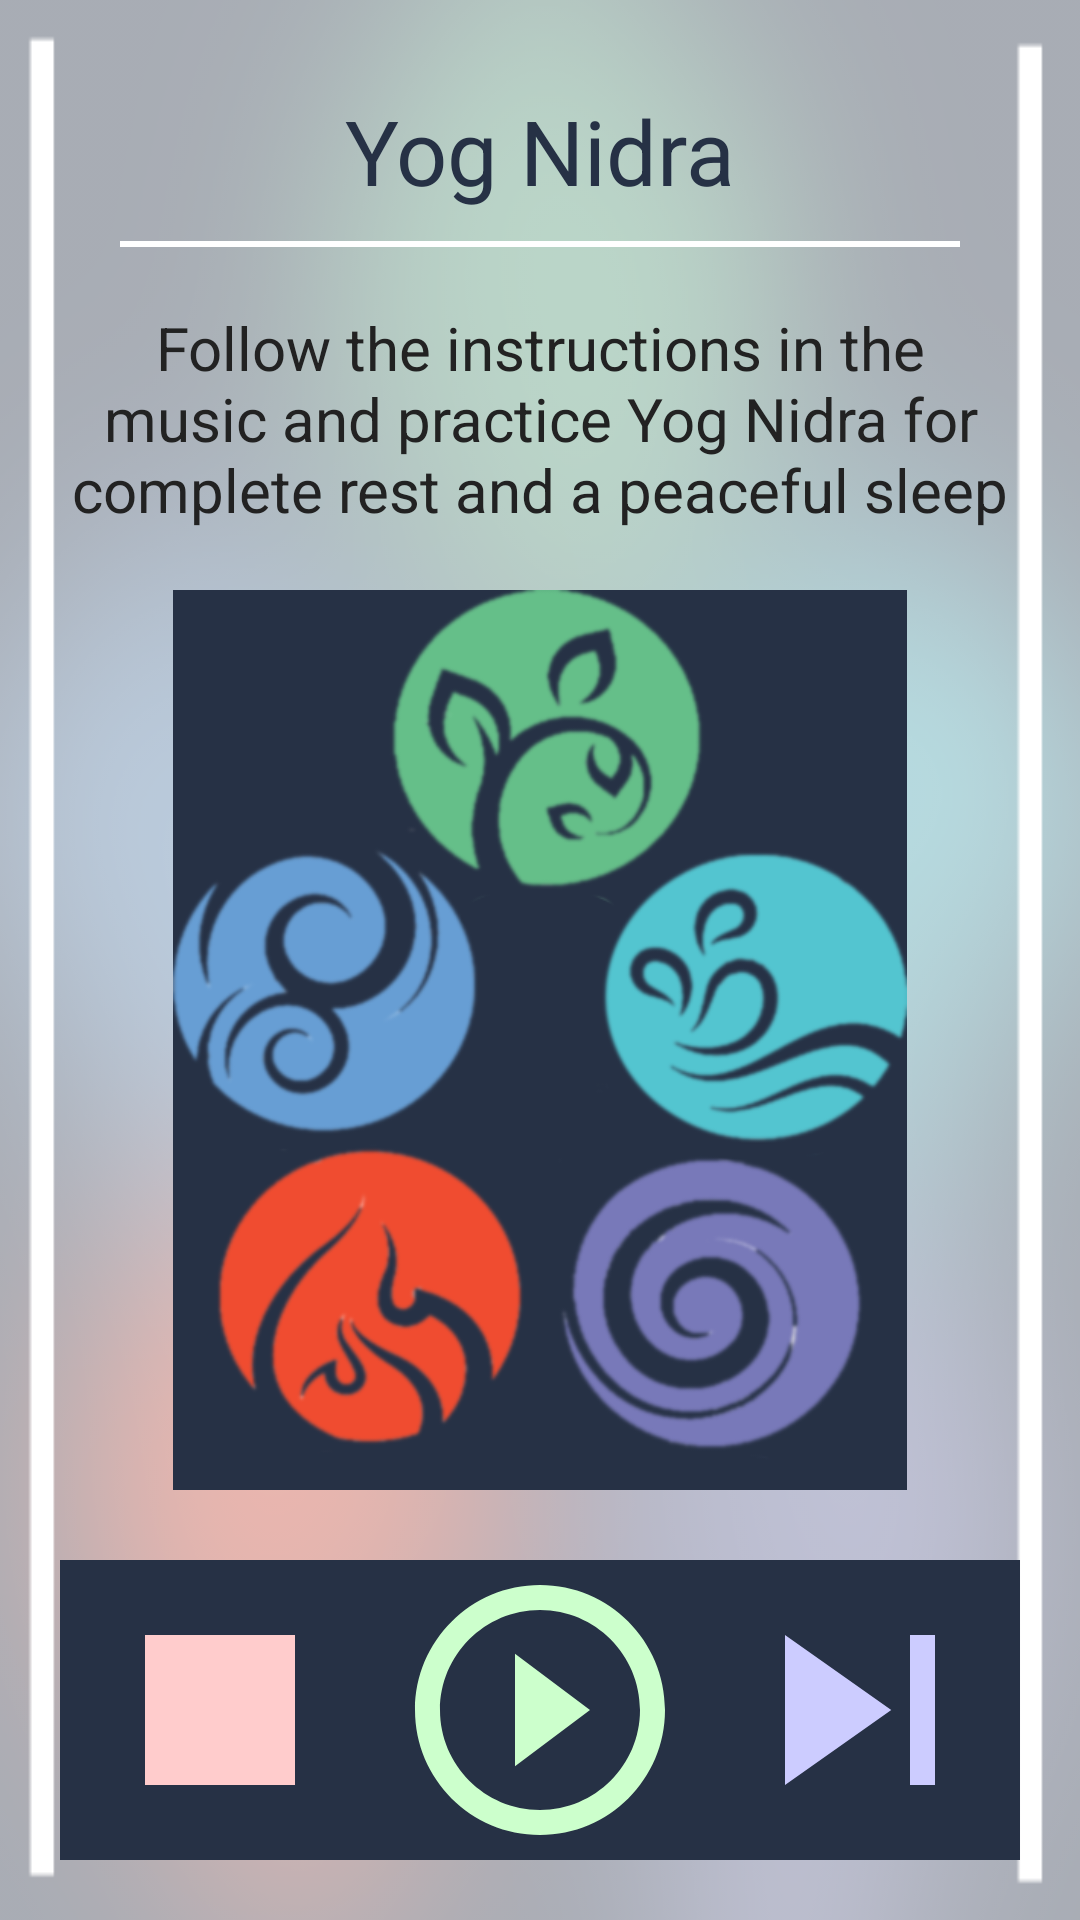

Where to tap for icons on this 1080x1920 app screen, as (x=x, y=y):
Next: (x=860, y=1710)
play: (x=540, y=1710)
stop: (x=220, y=1710)
